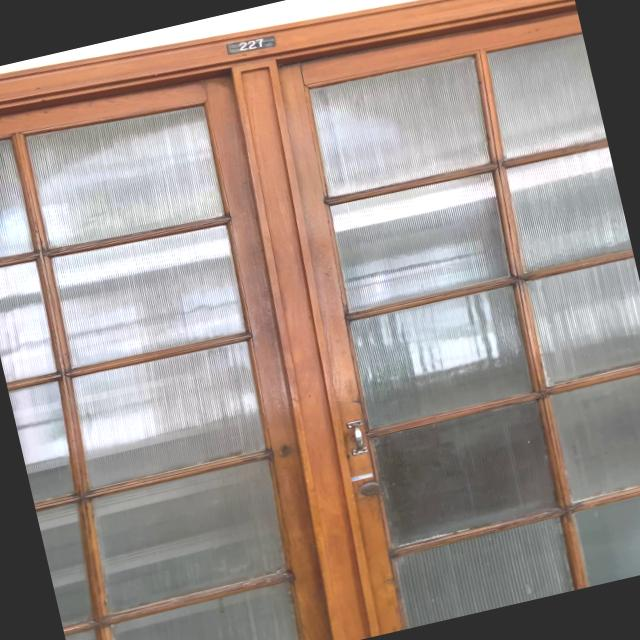room227: (222, 31, 278, 58)
